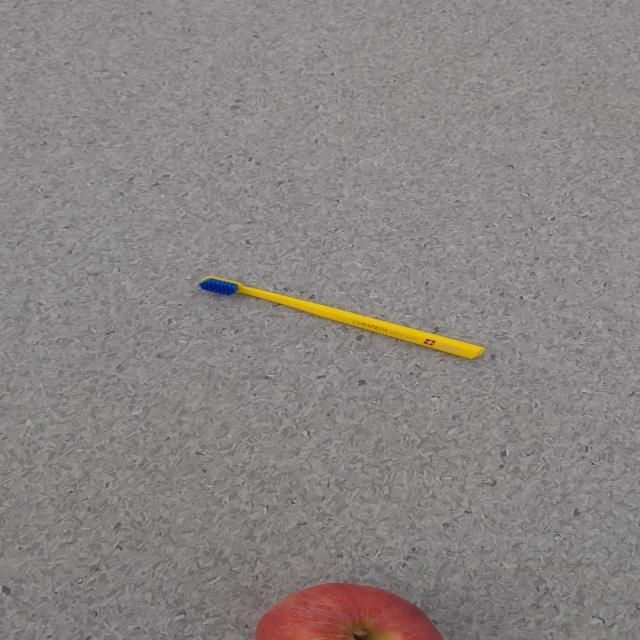apple: (254, 582, 443, 639)
toothbrush: (196, 275, 486, 360)
